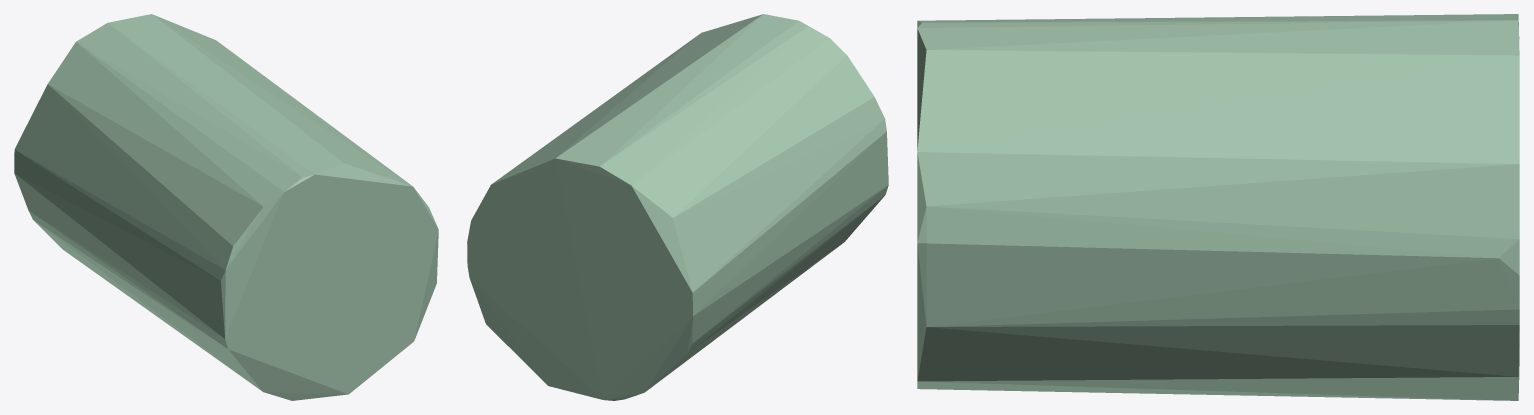
File: food_beverage_coffeeCup_c01.glb
3 views of the same model, side by side, from view 1: azimuth 30°, elevation 25°; view 2: azimuth 150°, elevation 25°; view 3: azimuth 270°, elevation 25° (orthographic). The views are drawn at different scales.
Parts seen in each view (by area): view 1: geometry_0; view 2: geometry_0; view 3: geometry_0.
Boxes of the visible parts, x1,y1,x2,y2 form: geometry_0: [14, 14, 438, 400]; geometry_0: [467, 14, 888, 400]; geometry_0: [917, 14, 1519, 400].
Size of the model in its own units: 0.3077 by 0.3071 by 0.48.
